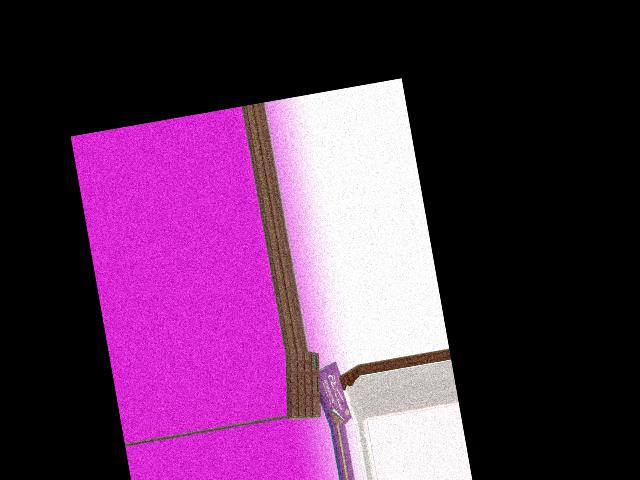chocolate: (276, 351, 330, 421)
